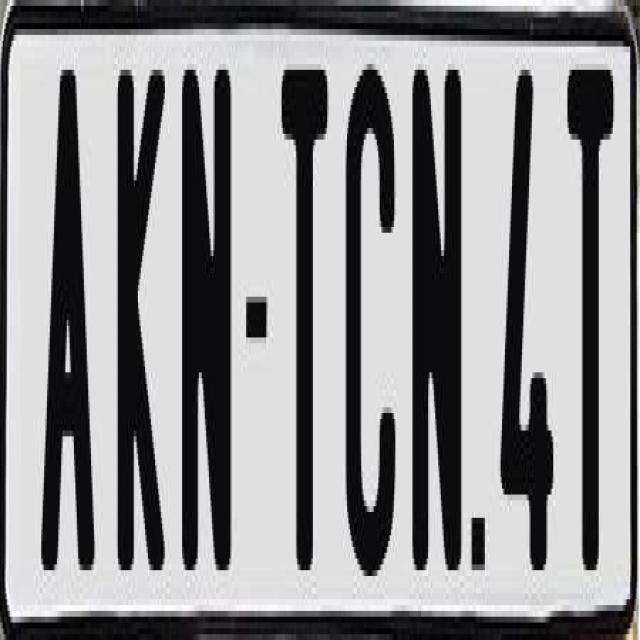4: (496, 64, 556, 582)
A: (38, 63, 97, 564)
C: (346, 52, 402, 570)
K: (115, 58, 168, 564)
N: (411, 64, 465, 588), (180, 52, 230, 582)
T: (566, 52, 612, 588), (282, 70, 328, 600)
